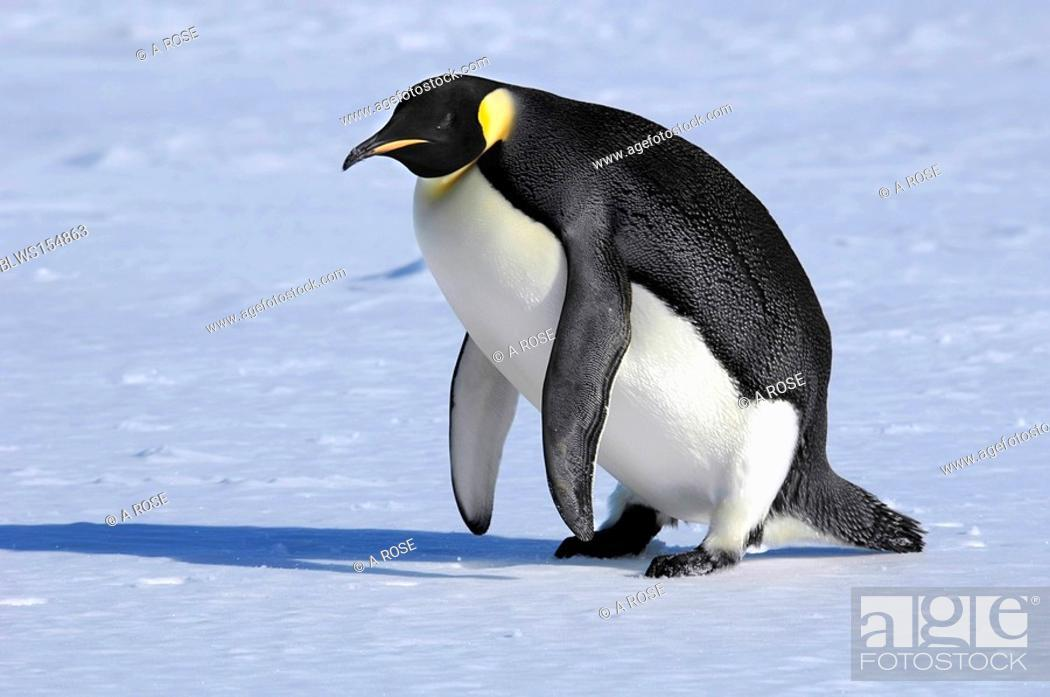emporer: (316, 37, 949, 588)
